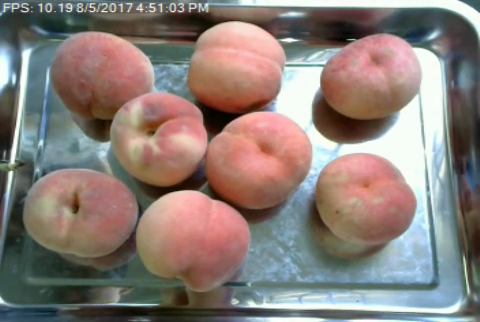Peach: (136, 189, 248, 290), (310, 152, 417, 252), (22, 167, 138, 259), (206, 111, 308, 211), (107, 90, 209, 187), (315, 32, 421, 123), (51, 29, 154, 121), (187, 20, 285, 113)
